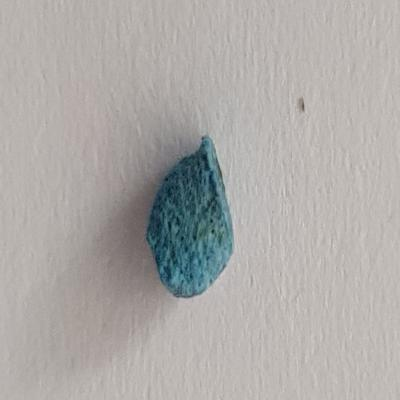plastic: (138, 132, 243, 306)
